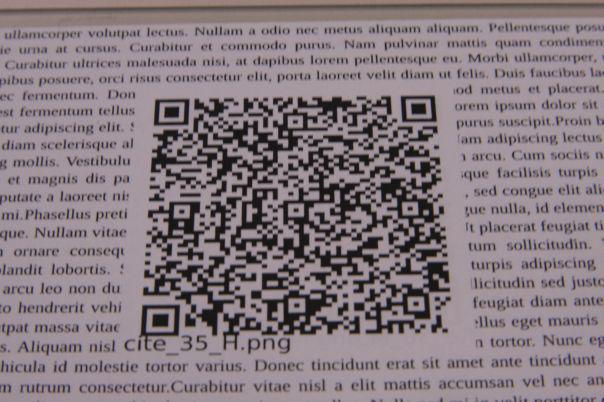Finder pattern: (136, 301, 183, 341), (395, 91, 444, 124), (150, 94, 193, 130)
